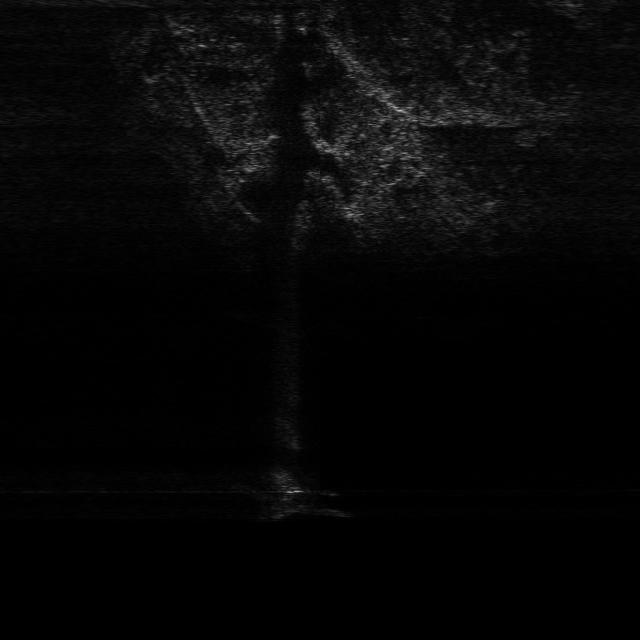plane: (228, 462, 358, 522)
